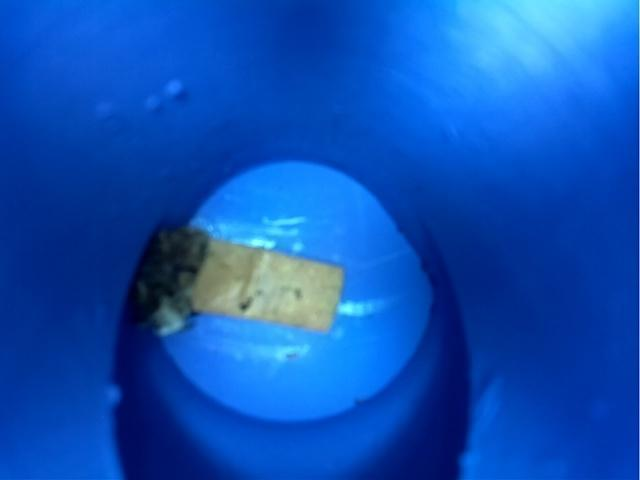megot: (125, 219, 349, 341)
